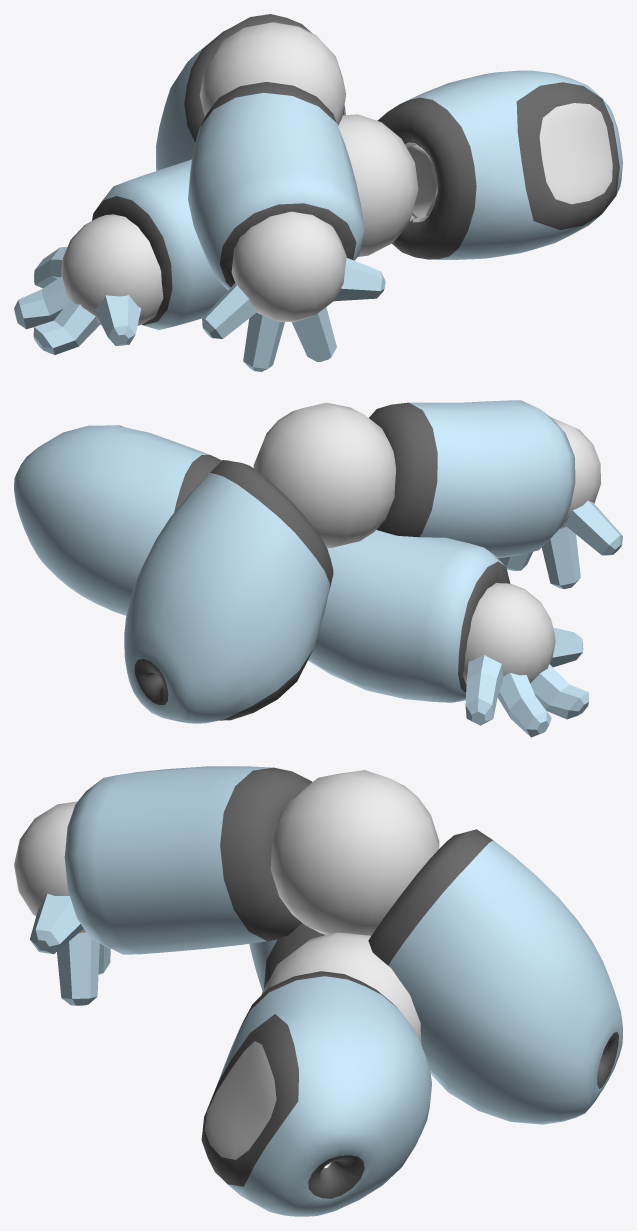
The model's file is Player_Arms.fbx.
3 renders of one model, top to bottom at view 1: azimuth 30°, elevation 25°; view 2: azimuth 150°, elevation 25°; view 3: azimuth 270°, elevation 25°, orthographic. The views are drawn at different scales.
Parts seen in each view (by area): view 1: R_Forearm.002; view 2: R_Forearm.002; view 3: R_Forearm.002.
Boxes of the visible parts, x1=… form: R_Forearm.002: x1=14, y1=14, x2=622, y2=371; R_Forearm.002: x1=14, y1=400, x2=622, y2=737; R_Forearm.002: x1=14, y1=766, x2=622, y2=1216.
Size of the model in its own units: 51.07 by 22.38 by 40.31.
